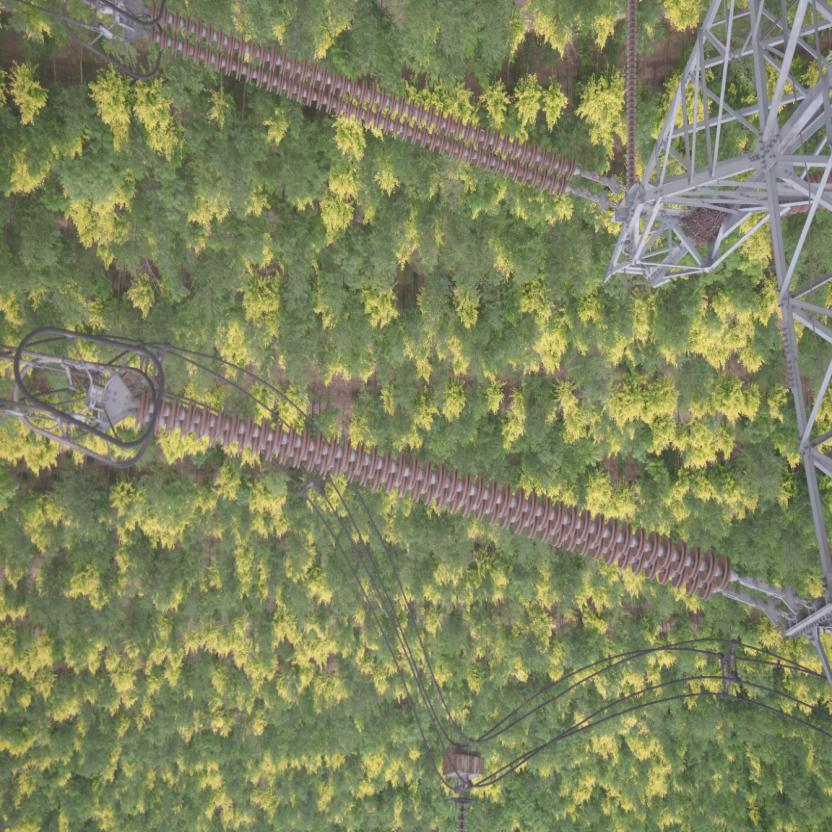insulator: (126, 387, 760, 606), (145, 3, 598, 205)
